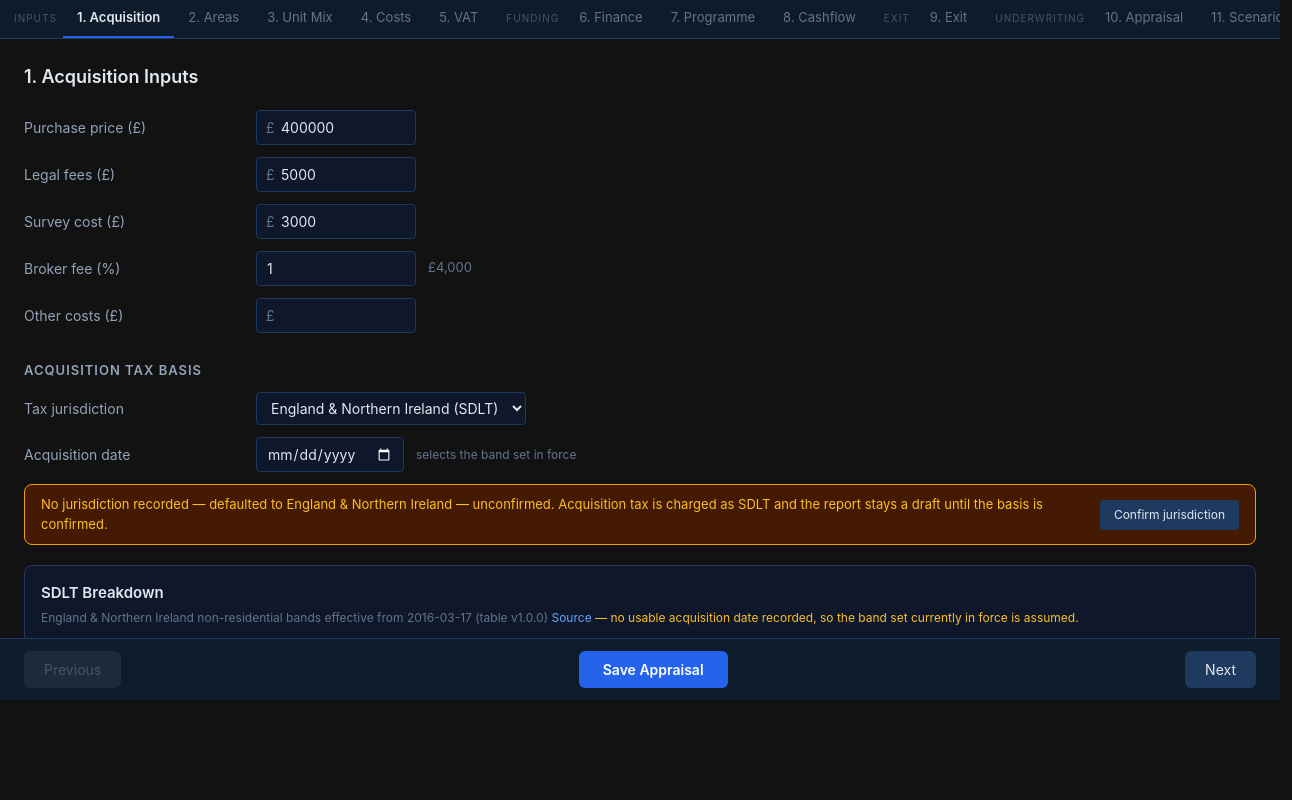
Test: ConversionCalculator adopts the saved snapshot the server returns (R8 Task 11) › re-renders on the jurisdiction the server derived instead of the one it posted
The width and height of the screenshot is (1292, 800).
Expected: the heading "SDLT Breakdown" is shown, [41,583,164,602]
Step 1. Click the button "Save Appraisal" → [653, 670], box [579,651,728,688]
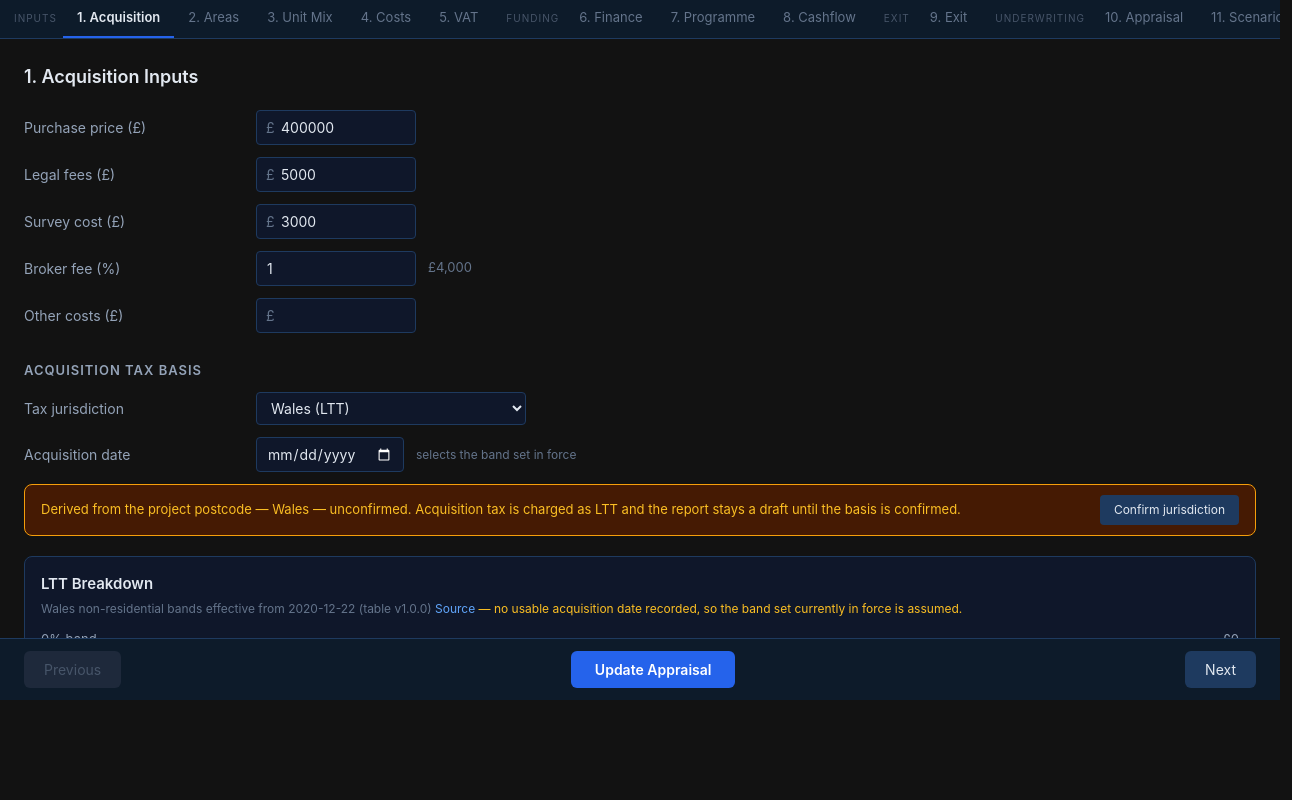
Expected: the heading "LTT Breakdown" is shown, [41,574,153,593]
Expected: the heading "SDLT Breakdown" is gone
Expected: the text "Derived from the project postcode" is shown, [41,501,309,517]
